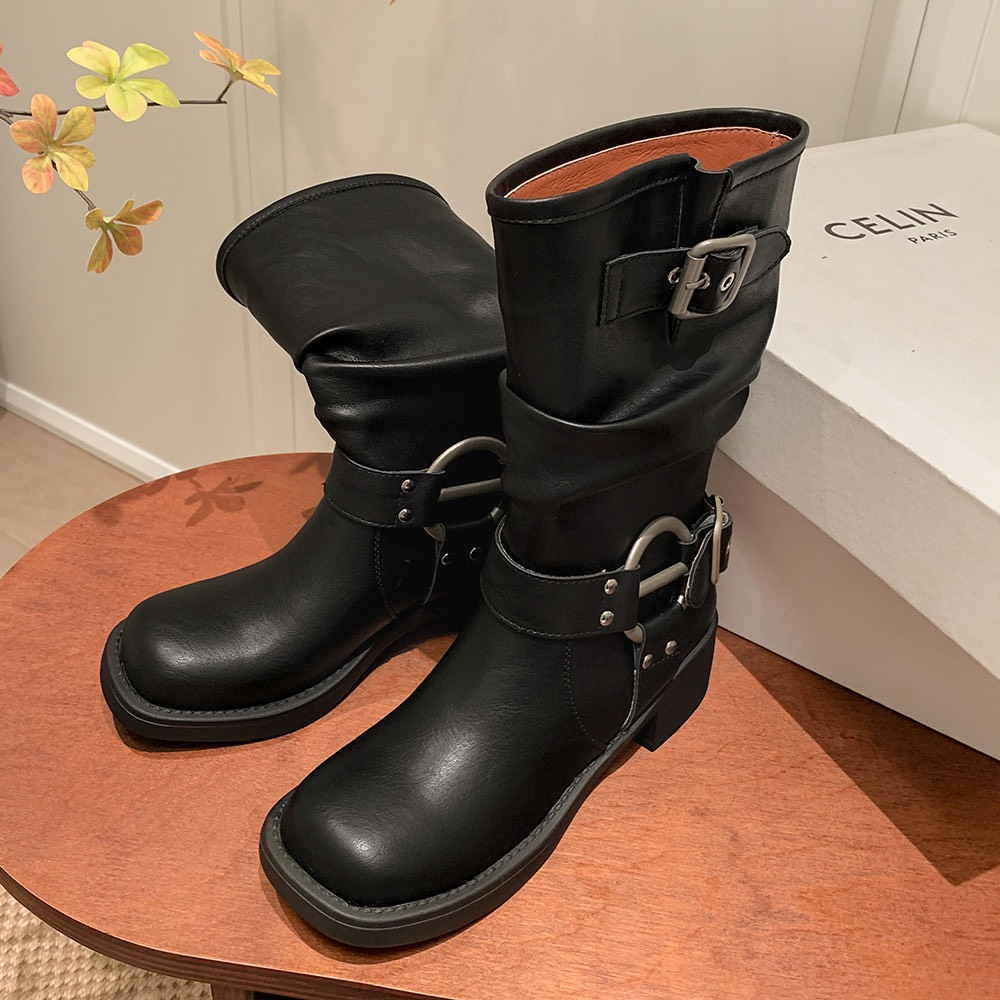boots: (258, 98, 812, 954), (98, 170, 509, 747)
